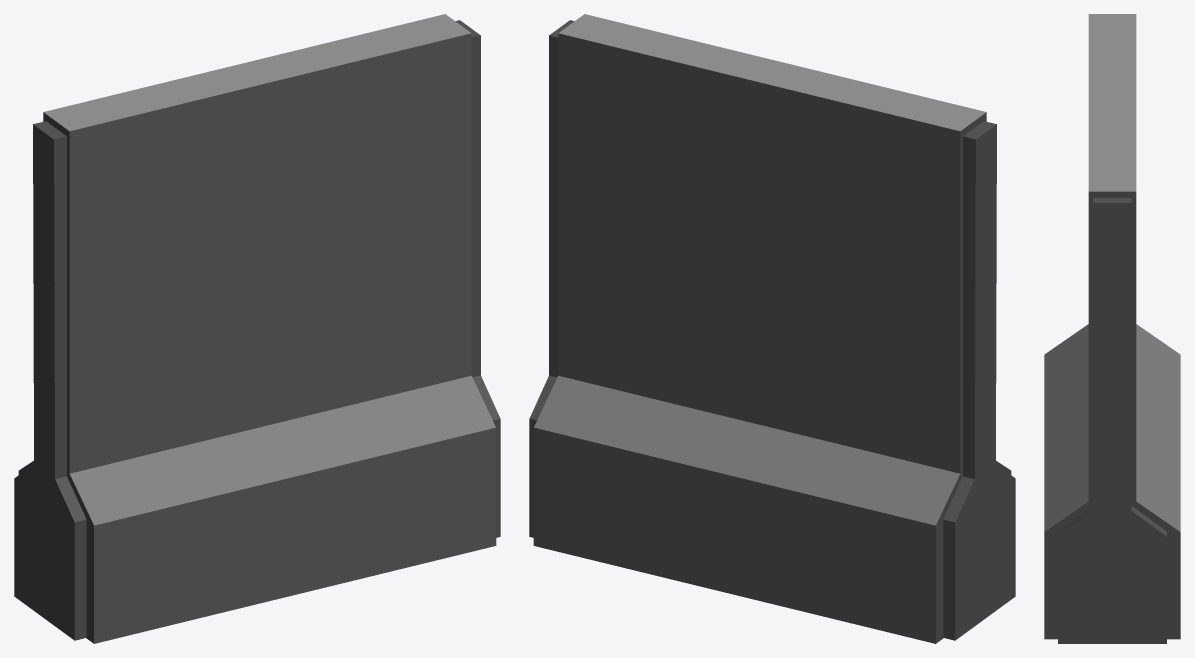
The model's file is SM_Prop_Wall_01.fbx.
3 renders of one model, left to right at view 1: azimuth 30°, elevation 25°; view 2: azimuth 150°, elevation 25°; view 3: azimuth 270°, elevation 25°, orthographic. The views are drawn at different scales.
Parts seen in each view (by area): view 1: SM_Prop_Wall_01; view 2: SM_Prop_Wall_01; view 3: SM_Prop_Wall_01.
Part boxes in pixels (<box>): SM_Prop_Wall_01: <box>14,14,500,643</box>; SM_Prop_Wall_01: <box>529,14,1015,643</box>; SM_Prop_Wall_01: <box>1044,14,1180,643</box>.
Bounding box in the file's own units: 5.01 × 5.55 × 1.53.
